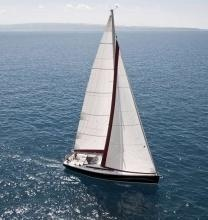fanchuan: (62, 7, 171, 177)
